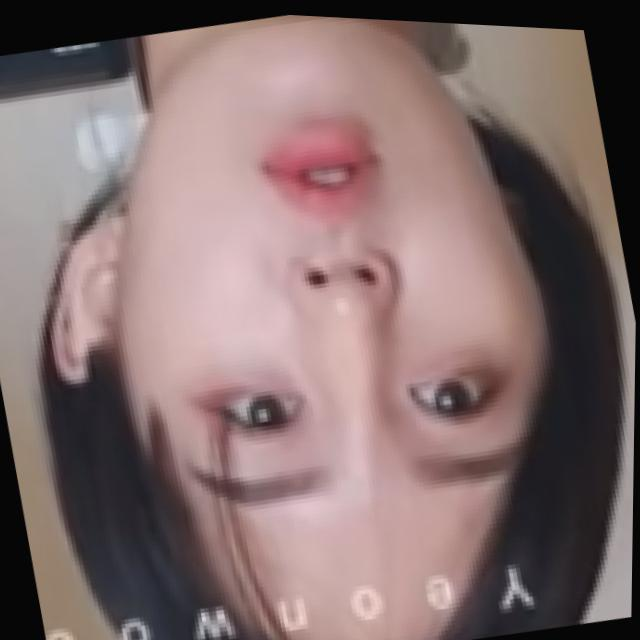face: (67, 3, 592, 618)
